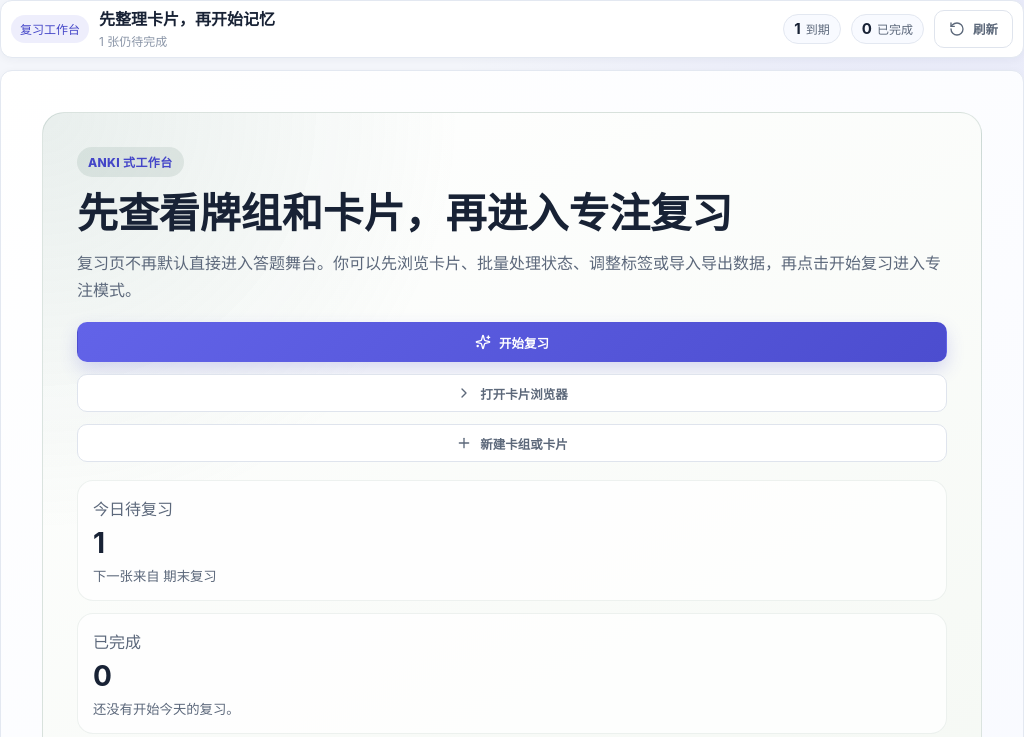
Scenario: ReviewWorkspacePage › undoes the last submitted review after returning to the workspace
What coordinates should you click on to do the following:
click the button "开始复习"
I would click on:
 (512, 342)
Its box is left=77, top=322, right=947, bottom=362.
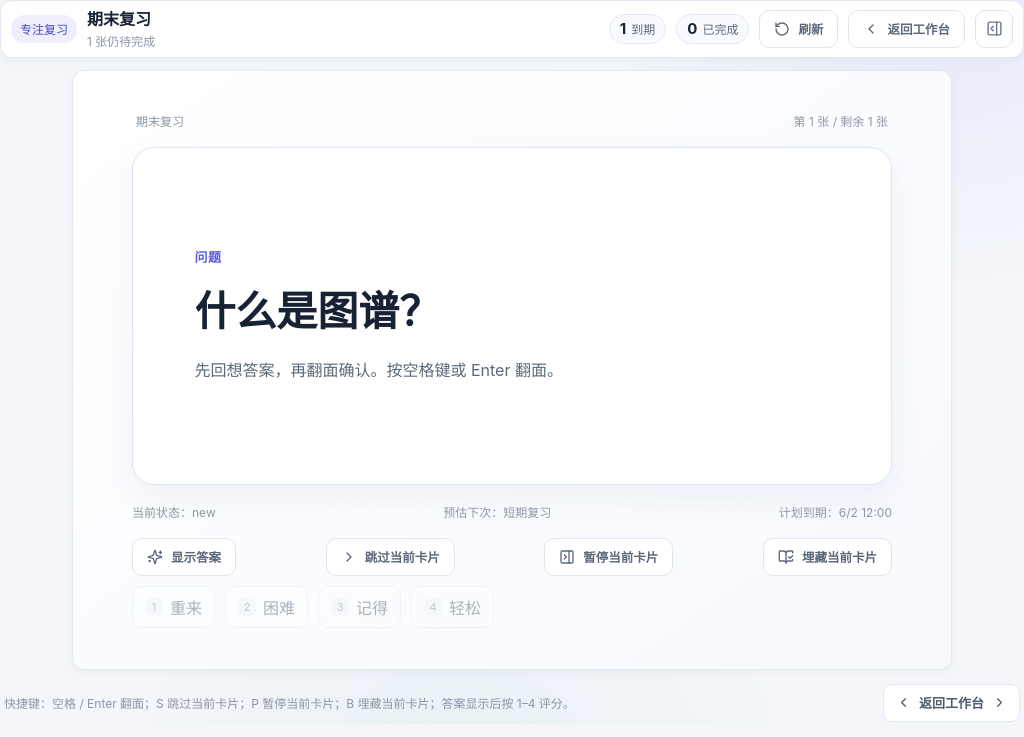
Check: the text "什么是图谱？" is shown, box left=194, top=286, right=440, bottom=336
What coordinates should you click on to do the following:
click the button "显示答案"
I would click on:
 (184, 557)
Its box is left=132, top=538, right=236, bottom=576.
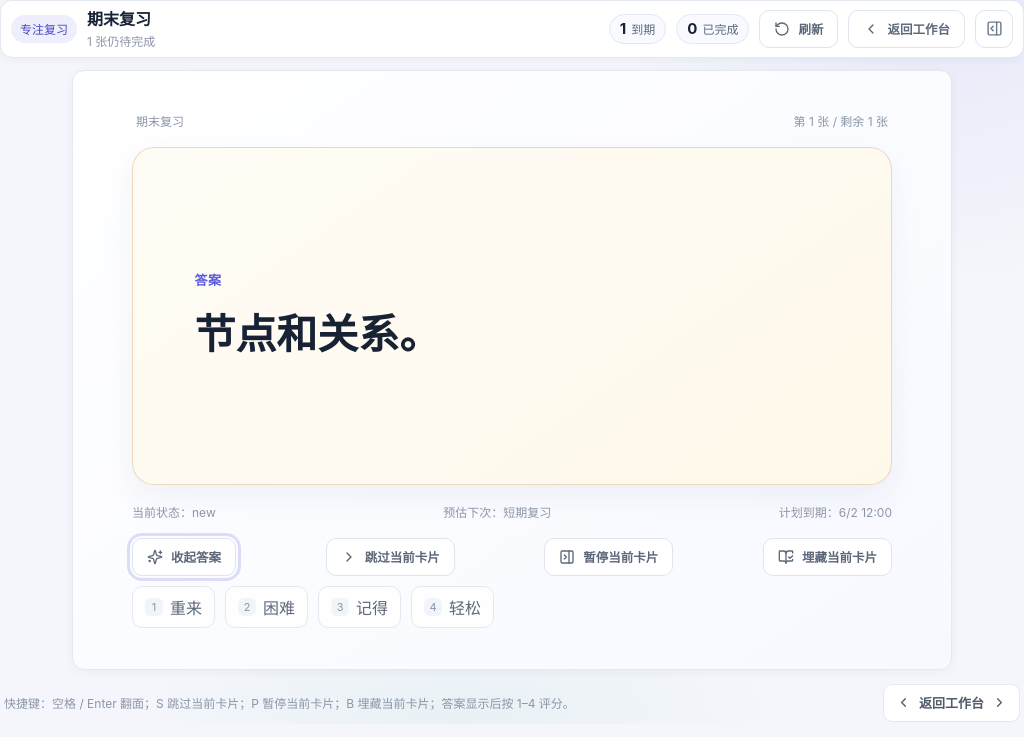
What coordinates should you click on to do the following:
click the button with aria-label "Good 记得"
I would click on:
 (360, 607)
Its box is left=318, top=586, right=401, bottom=628.
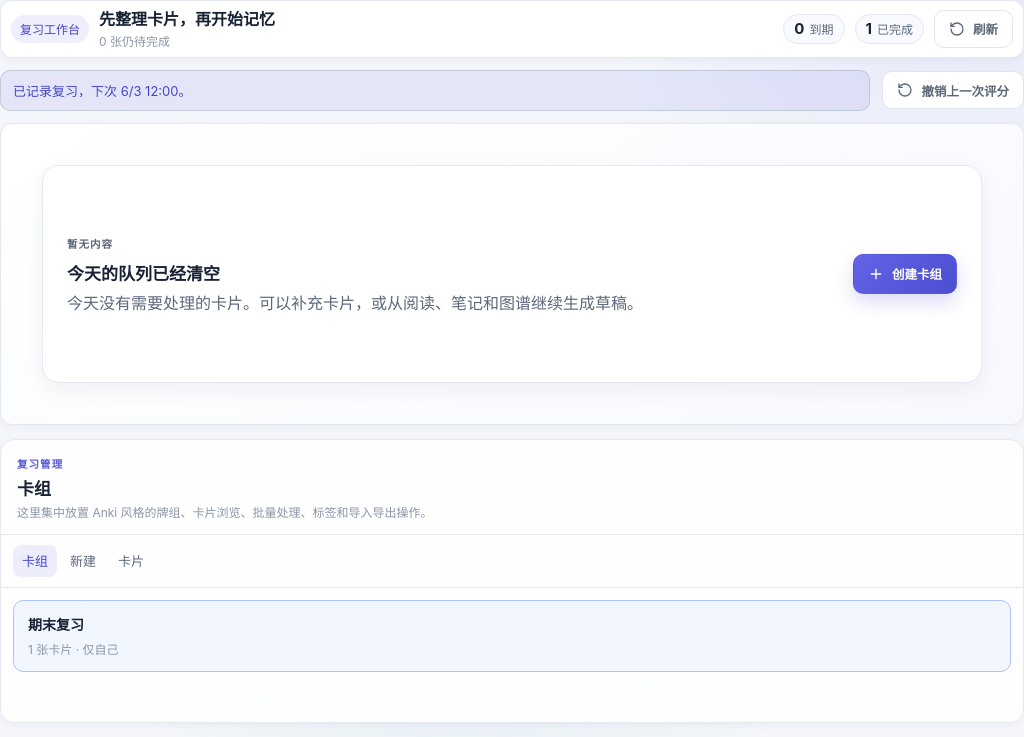
Check: the text "已记录复习，下次 6/3 12:00。" is shown, box left=0, top=70, right=870, bottom=111
What coordinates should you click on to do the following:
click the button "撤销上一次评分"
I would click on:
 (953, 90)
Its box is left=882, top=71, right=1023, bottom=109.
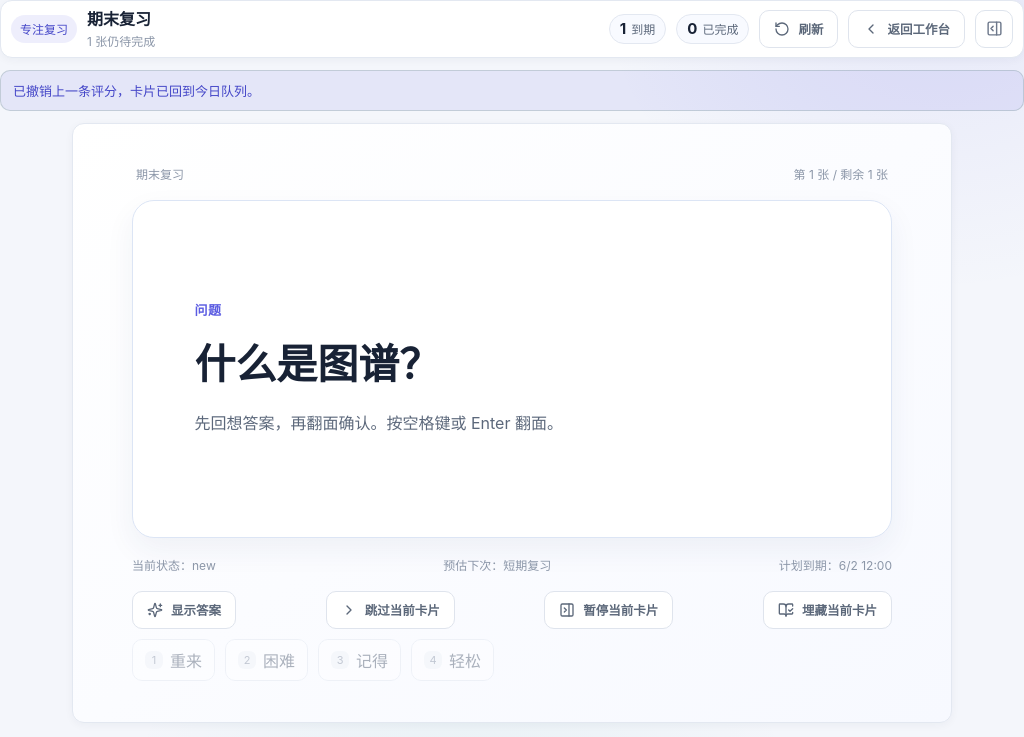
Check: the text "已撤销上一条评分，卡片已回到今日队列。" is shown, box left=0, top=70, right=1023, bottom=111
Check: the button "返回工作台" in the row of "已完成" is shown, box left=848, top=10, right=965, bottom=48
Check: the text "什么是图谱？" is shown, box left=194, top=339, right=440, bottom=389
